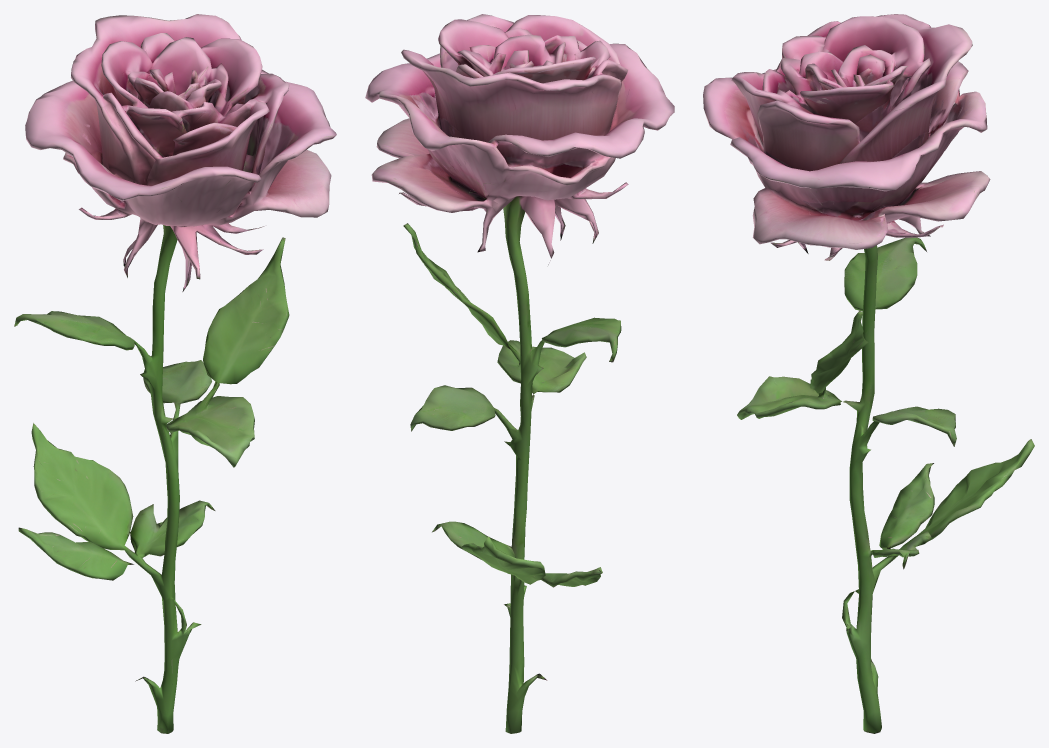
The model's file is rozowa_roza.glb.
3 renders of one model, left to right at view 1: azimuth 30°, elevation 25°; view 2: azimuth 150°, elevation 25°; view 3: azimuth 270°, elevation 25°, orthographic.
Visible parts, largest first — view 1: Mesh_0; view 2: Mesh_0; view 3: Mesh_0.
Boxes of the visible parts, x1,y1,x2,y2 form: Mesh_0: (14, 14, 336, 733); Mesh_0: (365, 14, 674, 733); Mesh_0: (703, 14, 1034, 733).
Bounding box in the file's own units: 0.2058 × 0.5 × 0.2174.
1 material, 1 textured.
